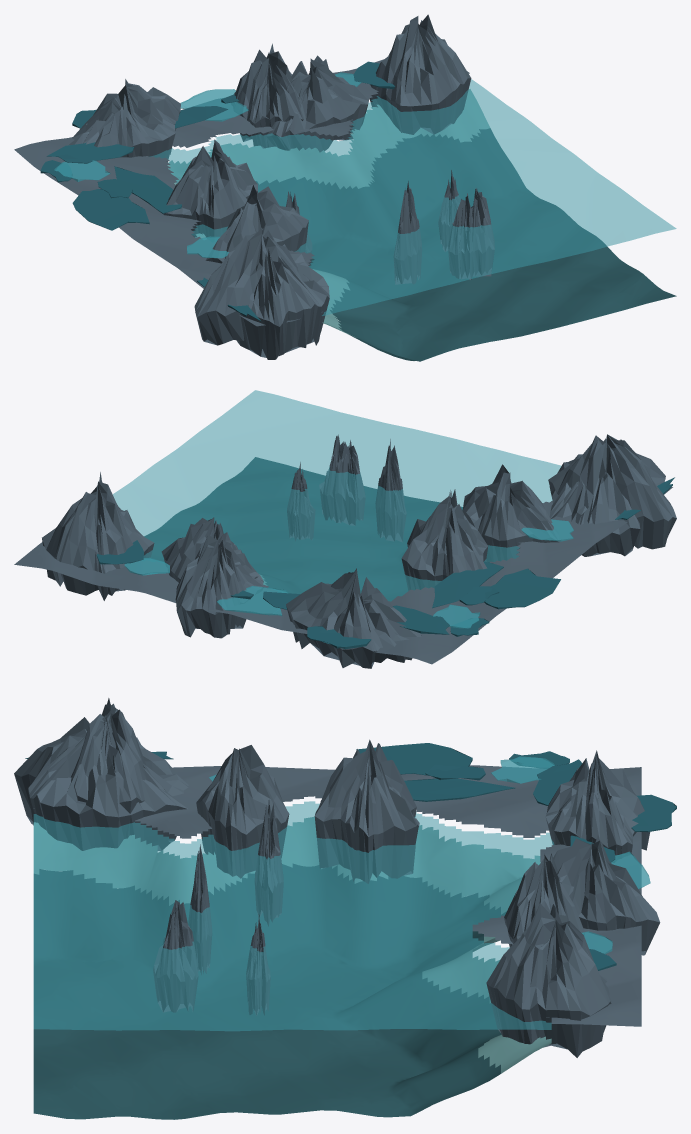
Rendered from water_tile_03.glb.
The picture shows the model from 3 angles, top to bottom: view 1: azimuth 30°, elevation 25°; view 2: azimuth 150°, elevation 25°; view 3: azimuth 270°, elevation 25°; orthographic projection. The views are drawn at different scales.
Parts seen in each view (by area): view 1: glacial water surface 03, submerged mineral riverbed.003, single continuous dark slate shoreline.003, visible shallow mineral shelves.003, angular fractured shoreline ledge.041, angular fractured shoreline ledge.045, angular fractured shoreline ledge.042, angular fractured shoreline ledge.046, angular fractured shoreline ledge.043, angular fractured shoreline ledge.044, angular fractured shoreline ledge.040, angular fractured shoreline ledge.047 (+12 smaller); view 2: glacial water surface 03, submerged mineral riverbed.003, single continuous dark slate shoreline.003, angular fractured shoreline ledge.042, angular fractured shoreline ledge.041, angular fractured shoreline ledge.040, angular fractured shoreline ledge.046, angular fractured shoreline ledge.047, angular fractured shoreline ledge.044, angular fractured shoreline ledge.045, underwater worn boulder.010, underwater worn boulder.011 (+14 smaller); view 3: submerged mineral riverbed.003, glacial water surface 03, visible shallow mineral shelves.003, single continuous dark slate shoreline.003, angular fractured shoreline ledge.045, angular fractured shoreline ledge.041, angular fractured shoreline ledge.044, angular fractured shoreline ledge.047, angular fractured shoreline ledge.042, angular fractured shoreline ledge.040, angular fractured shoreline ledge.046, underwater worn boulder.013 (+12 smaller).
Part boxes in pixels (x1,y1,x2,y2): glacial water surface 03: (149, 79, 676, 315); submerged mineral riverbed.003: (256, 128, 676, 361); single continuous dark slate shoreline.003: (14, 59, 469, 326); visible shallow mineral shelves.003: (167, 89, 489, 337); angular fractured shoreline ledge.041: (369, 14, 471, 134); angular fractured shoreline ledge.045: (236, 236, 329, 359); angular fractured shoreline ledge.042: (69, 79, 180, 162); angular fractured shoreline ledge.046: (194, 224, 310, 345); angular fractured shoreline ledge.043: (266, 55, 369, 152); angular fractured shoreline ledge.044: (163, 139, 257, 237); angular fractured shoreline ledge.040: (231, 43, 303, 148); angular fractured shoreline ledge.047: (205, 185, 308, 263); glacial water surface 03: (113, 390, 561, 601); submerged mineral riverbed.003: (144, 457, 462, 601); single continuous dark slate shoreline.003: (14, 487, 672, 664); angular fractured shoreline ledge.042: (286, 568, 421, 668); angular fractured shoreline ledge.041: (42, 472, 154, 600); angular fractured shoreline ledge.040: (175, 529, 263, 638); angular fractured shoreline ledge.046: (548, 434, 676, 549); angular fractured shoreline ledge.047: (462, 464, 559, 562); angular fractured shoreline ledge.044: (401, 496, 488, 590); angular fractured shoreline ledge.045: (549, 438, 665, 556); underwater worn boulder.010: (375, 439, 406, 542); underwater worn boulder.011: (332, 440, 365, 525); submerged mineral riverbed.003: (33, 863, 506, 1119); glacial water surface 03: (33, 801, 554, 1031); visible shallow mineral shelves.003: (33, 817, 551, 1073); single continuous dark slate shoreline.003: (33, 765, 641, 1026); angular fractured shoreline ledge.045: (14, 715, 188, 850); angular fractured shoreline ledge.041: (486, 903, 611, 1057); angular fractured shoreline ledge.044: (314, 739, 419, 883); angular fractured shoreline ledge.047: (196, 745, 289, 878); angular fractured shoreline ledge.042: (545, 750, 650, 862); angular fractured shoreline ledge.040: (553, 835, 660, 955); angular fractured shoreline ledge.046: (71, 698, 146, 838); underwater worn boulder.013: (153, 902, 198, 1012).
Bounding box in the file's own units: 1.08 × 0.3438 × 1.09.
